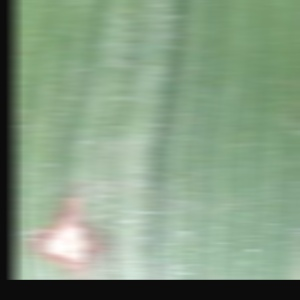Brown_Spot: (30, 177, 108, 270)
